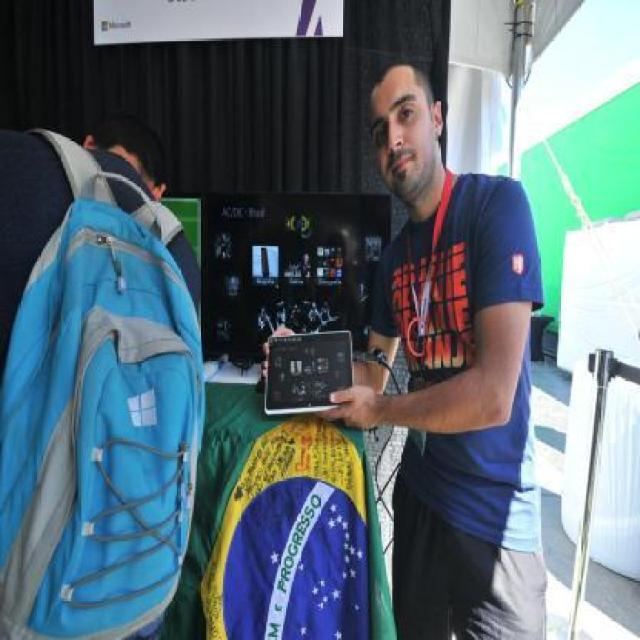backpack: (0, 177, 209, 640)
